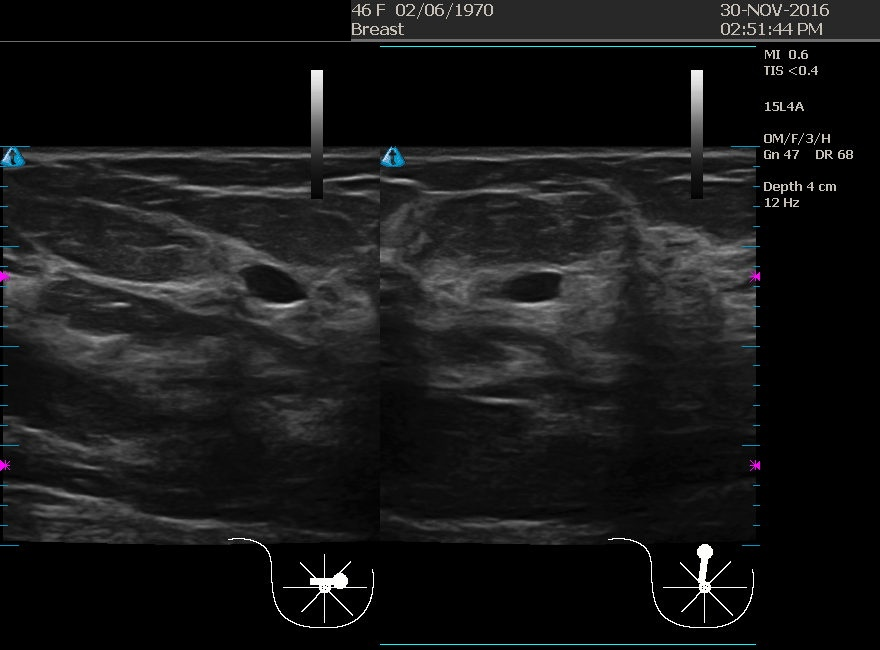BIRADS_2: (168, 213, 369, 413), (422, 194, 622, 394)
